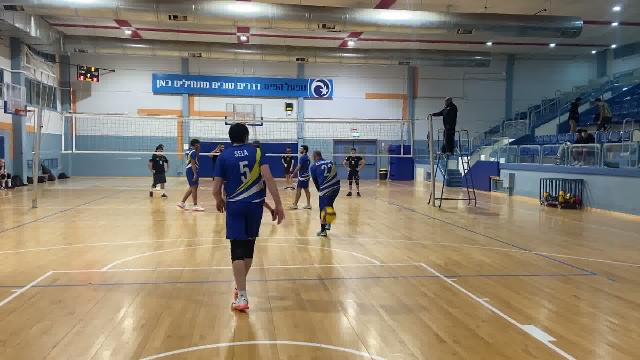ball: (317, 208, 338, 224)
